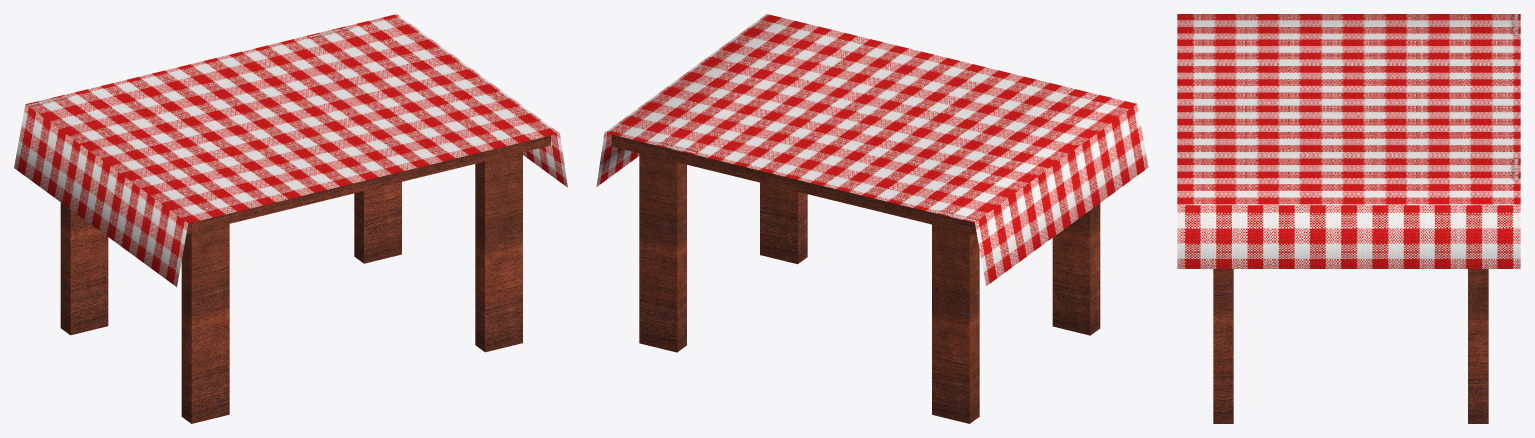
Rendered from asztal.FBX.
3 views of the same model, side by side, from view 1: azimuth 30°, elevation 25°; view 2: azimuth 150°, elevation 25°; view 3: azimuth 270°, elevation 25° (orthographic). The views are drawn at different scales.
Visible parts, largest first — view 1: Plane001, Box001; view 2: Plane001, Box001; view 3: Plane001, Box001.
Part boxes in pixels (bbox=[...]): Plane001: bbox=[14, 14, 567, 286]; Box001: bbox=[60, 135, 550, 423]; Plane001: bbox=[596, 14, 1148, 286]; Box001: bbox=[611, 134, 1100, 423]; Plane001: bbox=[1177, 14, 1520, 268]; Box001: bbox=[1213, 269, 1488, 423].
Bounding box in the file's own units: 87.53 × 46.6 × 63.17.
Materials: 2 (2 with a texture image).
